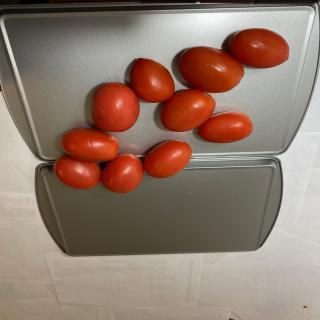Chilli: (52, 27, 290, 193)
Tomato: (178, 46, 244, 93), (228, 28, 290, 68), (91, 82, 140, 132), (160, 89, 216, 132), (129, 57, 175, 103), (60, 128, 120, 162), (143, 140, 192, 178), (197, 112, 253, 144), (101, 154, 144, 194), (53, 156, 101, 190)
